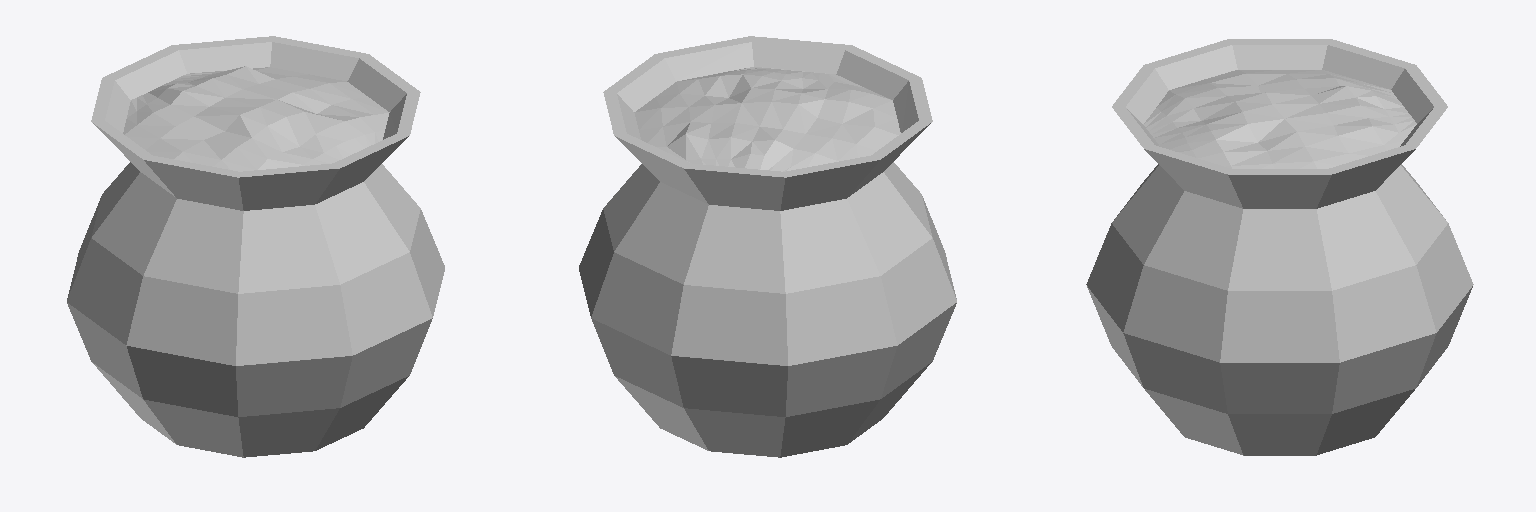
Rendered from cauldron.obj.
3 views of the same model, side by side, from view 1: azimuth 30°, elevation 25°; view 2: azimuth 150°, elevation 25°; view 3: azimuth 270°, elevation 25° (orthographic).
Visible parts, largest first — view 1: caldeirão_Cylinder.001; view 2: caldeirão_Cylinder.001; view 3: caldeirão_Cylinder.001.
Boxes of the visible parts, x1=… form: caldeirão_Cylinder.001: x1=67, y1=36, x2=444, y2=457; caldeirão_Cylinder.001: x1=579, y1=36, x2=956, y2=457; caldeirão_Cylinder.001: x1=1086, y1=39, x2=1473, y2=455.
Bounding box in the file's own units: 0.8764 × 0.7983 × 0.9215.